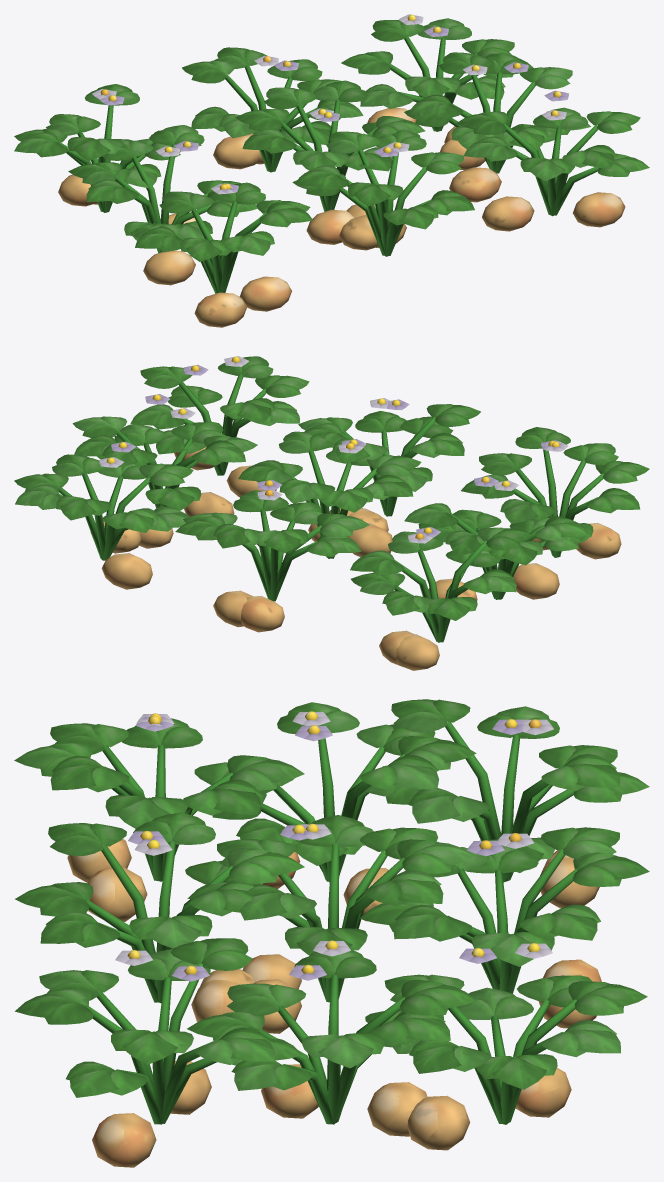
The model's file is crop_potato.glb.
The picture shows the model from 3 angles, top to bottom: view 1: azimuth 30°, elevation 25°; view 2: azimuth 150°, elevation 25°; view 3: azimuth 270°, elevation 25°; orthographic projection. The views are drawn at different scales.
Visible parts, largest first — view 1: P1_leaf, P2_leaf, P0_leaf, P4_leaf, P8_leaf, P3_leaf, P7_leaf, P5_leaf, P6_leaf, P2_fruit3, P2_fruit2, P0_fruit2 (+8 smaller); view 2: P6_leaf, P0_leaf, P7_leaf, P8_leaf, P2_leaf, P5_leaf, P4_leaf, P1_leaf, P3_leaf, P8_fruit2, P3_fruit3, P7_fruit3 (+9 smaller); view 3: P2_leaf, P1_leaf, P5_leaf, P8_leaf, P7_leaf, P6_leaf, P4_leaf, P0_leaf, P3_leaf, P2_fruit2, P8_fruit3, P5_fruit2 (+10 smaller).
Part boxes in pixels (bbox=[...]): P1_leaf: bbox=[292, 129, 474, 256]; P2_leaf: bbox=[456, 107, 649, 216]; P0_leaf: bbox=[134, 182, 312, 293]; P4_leaf: bbox=[235, 80, 425, 211]; P8_leaf: bbox=[341, 18, 533, 131]; P3_leaf: bbox=[68, 125, 257, 253]; P7_leaf: bbox=[182, 47, 363, 172]; P5_leaf: bbox=[404, 52, 590, 173]; P6_leaf: bbox=[14, 84, 201, 212]; P2_fruit3: bbox=[482, 196, 534, 231]; P2_fruit2: bbox=[573, 192, 625, 227]; P0_fruit2: bbox=[194, 292, 247, 327]; P6_leaf: bbox=[350, 527, 531, 642]; P0_leaf: bbox=[461, 427, 649, 557]; P7_leaf: bbox=[175, 490, 369, 601]; P8_leaf: bbox=[14, 454, 193, 560]; P2_leaf: bbox=[130, 356, 309, 475]; P5_leaf: bbox=[72, 416, 257, 510]; P4_leaf: bbox=[238, 431, 421, 558]; P1_leaf: bbox=[298, 404, 480, 516]; P3_leaf: bbox=[404, 503, 589, 599]; P8_fruit2: bbox=[101, 553, 152, 589]; P3_fruit3: bbox=[513, 563, 559, 599]; P7_fruit3: bbox=[241, 596, 284, 632]; P2_leaf: bbox=[15, 938, 302, 1124]; P1_leaf: bbox=[15, 812, 304, 1003]; P5_leaf: bbox=[187, 949, 476, 1124]; P8_leaf: bbox=[384, 974, 647, 1124]; P7_leaf: bbox=[359, 827, 649, 993]; P6_leaf: bbox=[365, 699, 649, 882]; P4_leaf: bbox=[187, 815, 475, 1002]; P0_leaf: bbox=[14, 718, 304, 881]; P3_leaf: bbox=[212, 702, 476, 882]; P2_fruit2: bbox=[92, 1113, 156, 1167]; P8_fruit3: bbox=[407, 1095, 470, 1150]; P5_fruit2: bbox=[367, 1082, 427, 1136].
Size of the model in its own units: 1.51 by 0.351 by 1.11.
Materials: 1 (1 with a texture image).
